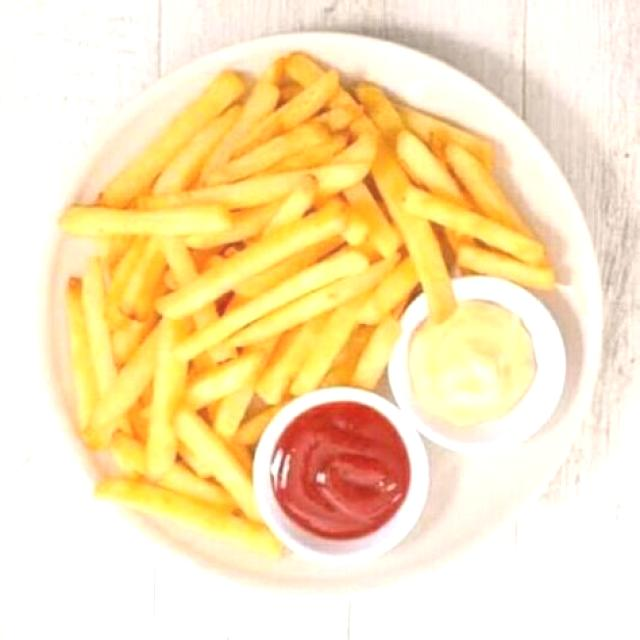kentang goreng: (59, 50, 556, 528)
